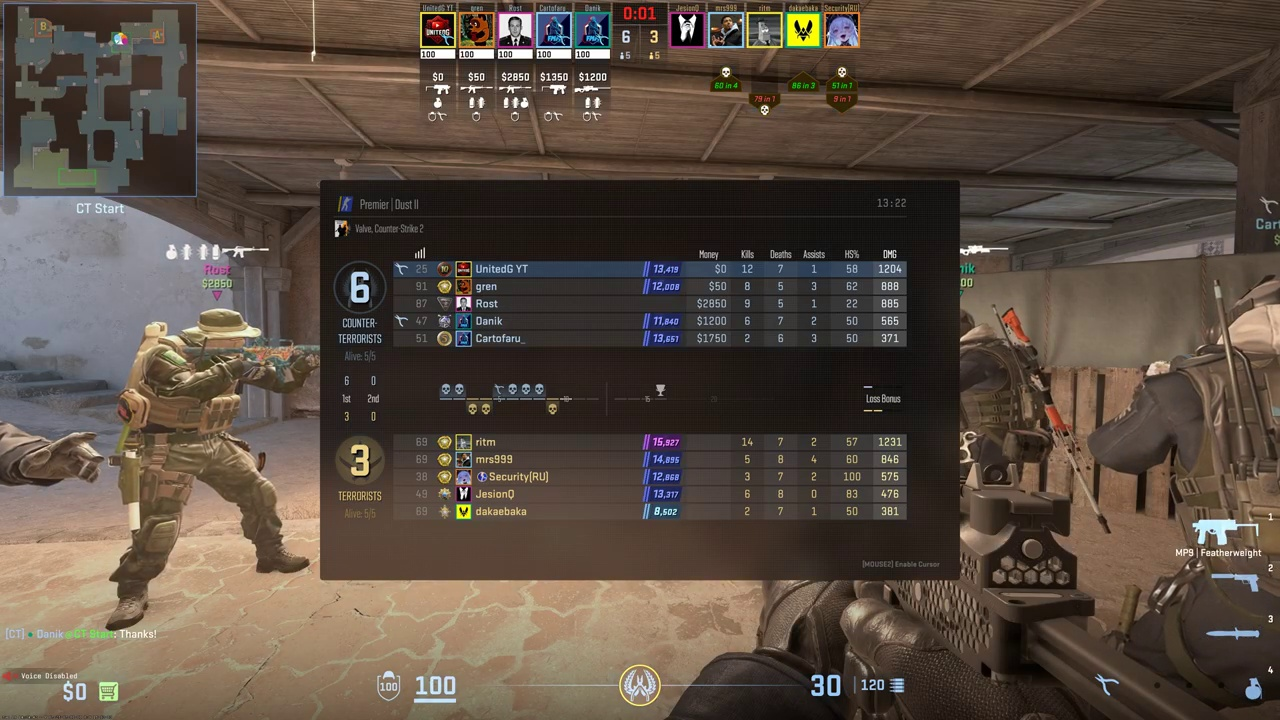CT: (1106, 276, 1277, 713), (110, 318, 300, 629), (948, 304, 1072, 584)
